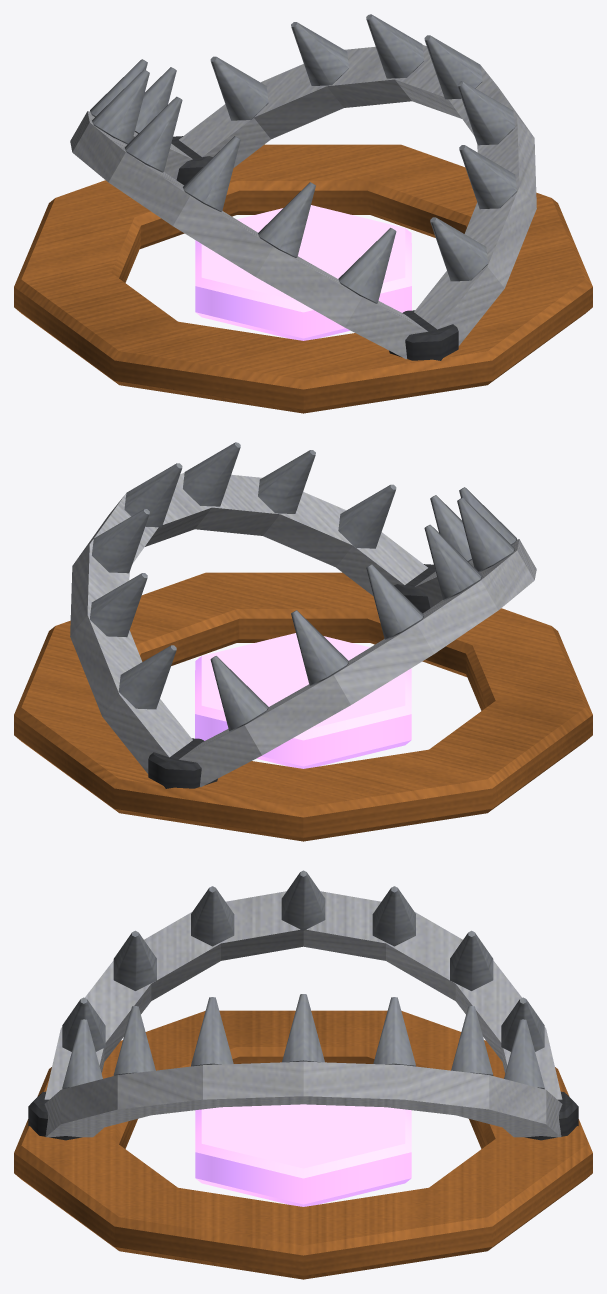
Rendered from R4D_SnareTrap_LOD1.glb.
3 views of the same model, one above another, from view 1: azimuth 30°, elevation 25°; view 2: azimuth 150°, elevation 25°; view 3: azimuth 270°, elevation 25° (orthographic).
Parts seen in each view (by area): view 1: R4D_SnareTrap_LOD1; view 2: R4D_SnareTrap_LOD1; view 3: R4D_SnareTrap_LOD1.
Boxes of the visible parts, left/top/right/bottom form: R4D_SnareTrap_LOD1: left=14, top=14, right=592, bottom=413; R4D_SnareTrap_LOD1: left=14, top=442, right=592, bottom=841; R4D_SnareTrap_LOD1: left=14, top=870, right=592, bottom=1279.
Bounding box in the file's own units: 0.4558 × 0.1997 × 0.4629.
Materials: 5 (4 with a texture image).
